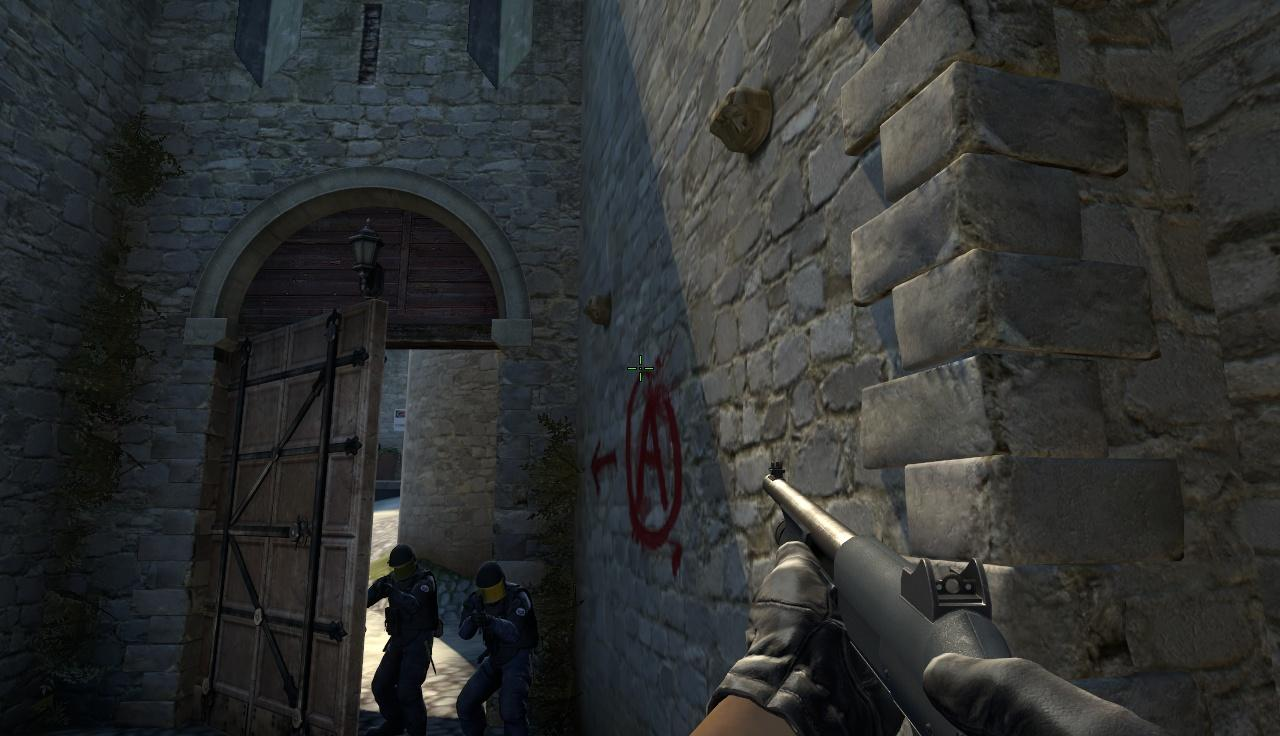ct: (376, 545, 439, 736), (466, 562, 530, 736)
cthead: (475, 563, 506, 602), (389, 545, 415, 578)
shotgun: (747, 461, 1162, 736)
